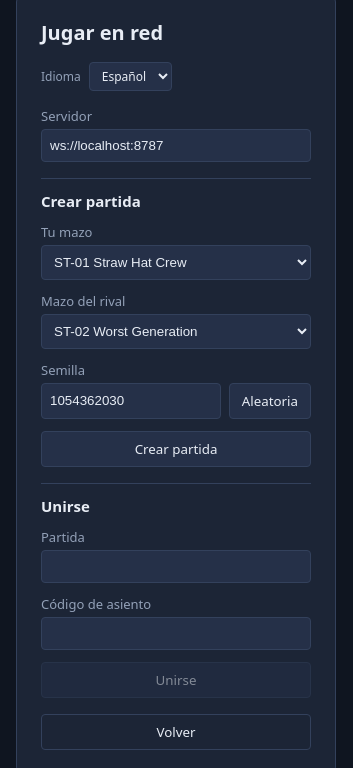
Test: the lobby › will not join with half an invitation
expect the button "Unirse" is disabled: met, box x1=41 y1=662 x2=311 y2=698
In the field labelled "Partida": (176, 566) x1=41 y1=550 x2=311 y2=582, type "m"
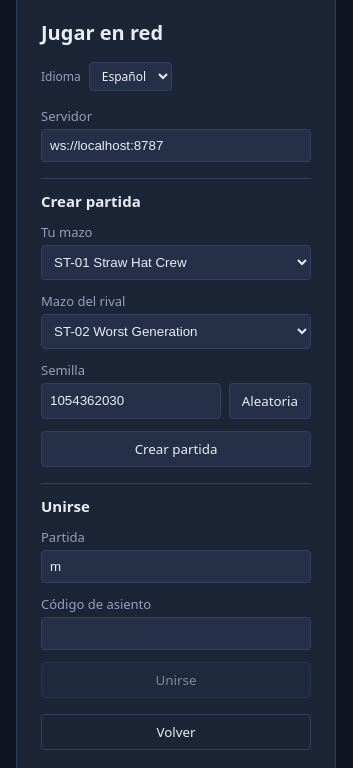
expect the button "Unirse" is disabled: met, box x1=41 y1=662 x2=311 y2=698
In the field labelled "Código de asiento": (176, 633) x1=41 y1=616 x2=311 y2=650, type "t"
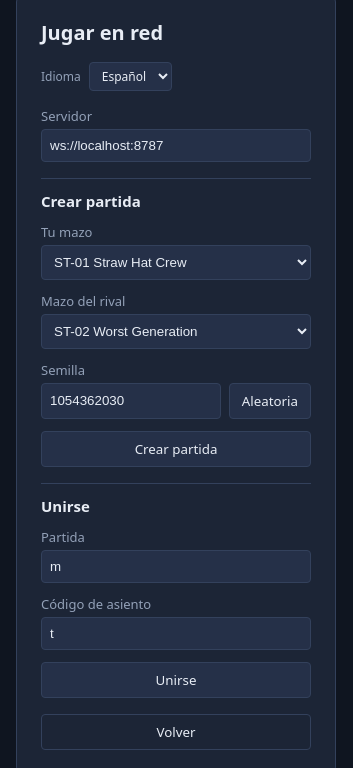
expect the button "Unirse" is enabled: met, box x1=41 y1=662 x2=311 y2=698
